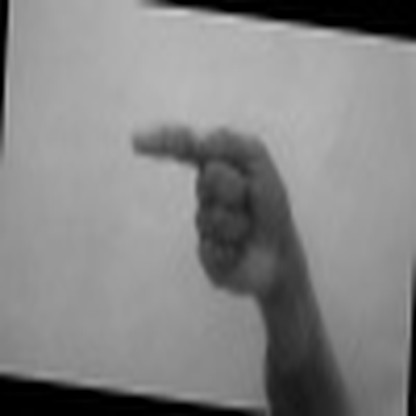g: (113, 111, 333, 299)
